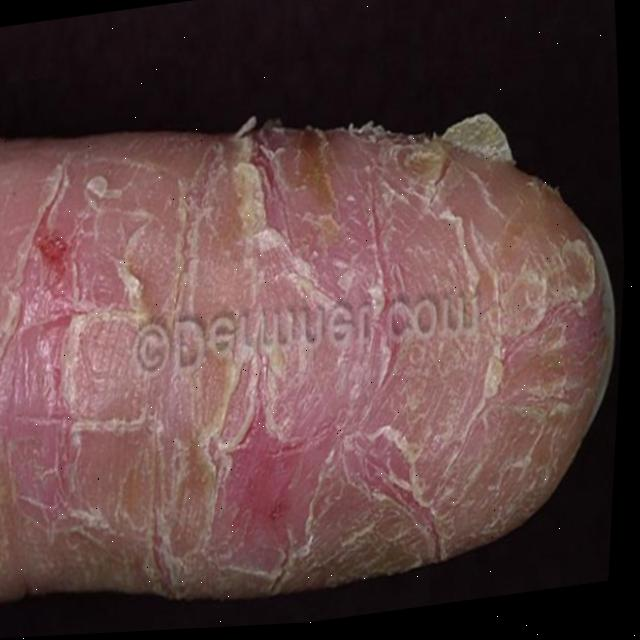Eczema: (16, 102, 572, 574)
